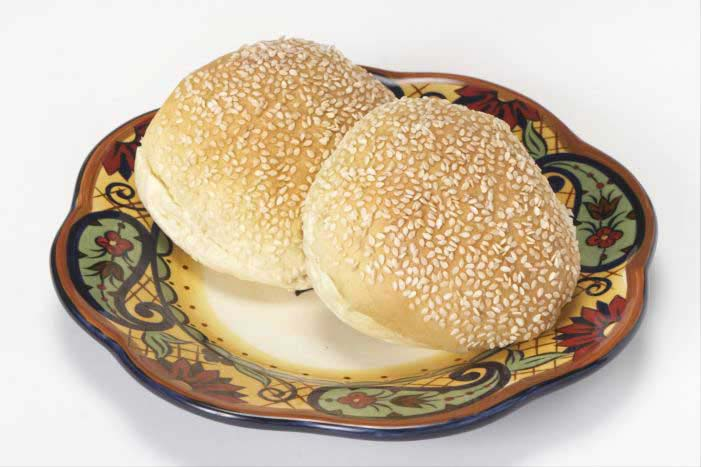hamburger_buns: (145, 23, 603, 367)
